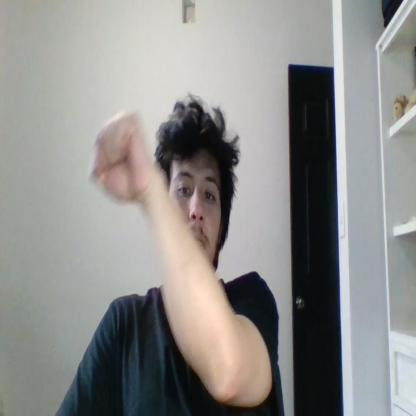S: (88, 110, 150, 204)
